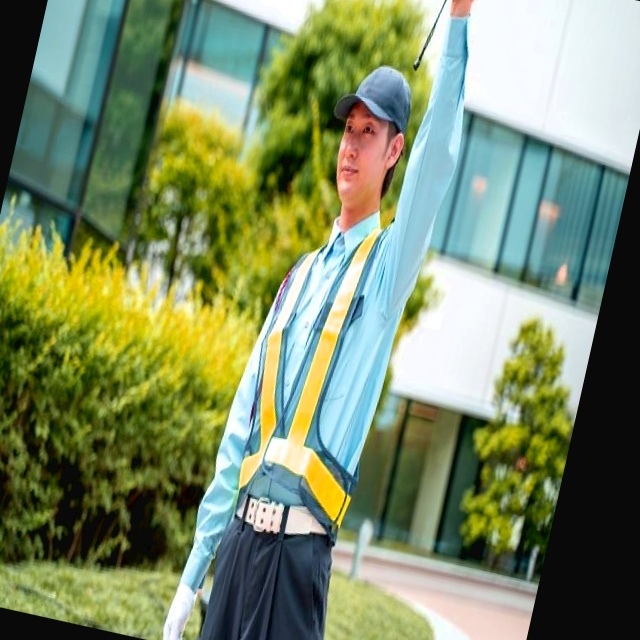Con_Chaleco: (216, 215, 410, 543)
Sin_Casco_Mascarrilla: (314, 57, 419, 228)
